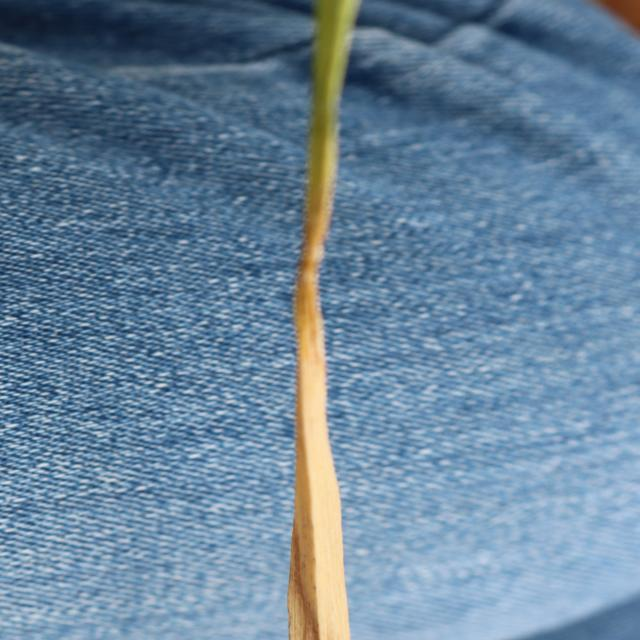Septoria: (285, 1, 363, 638)
